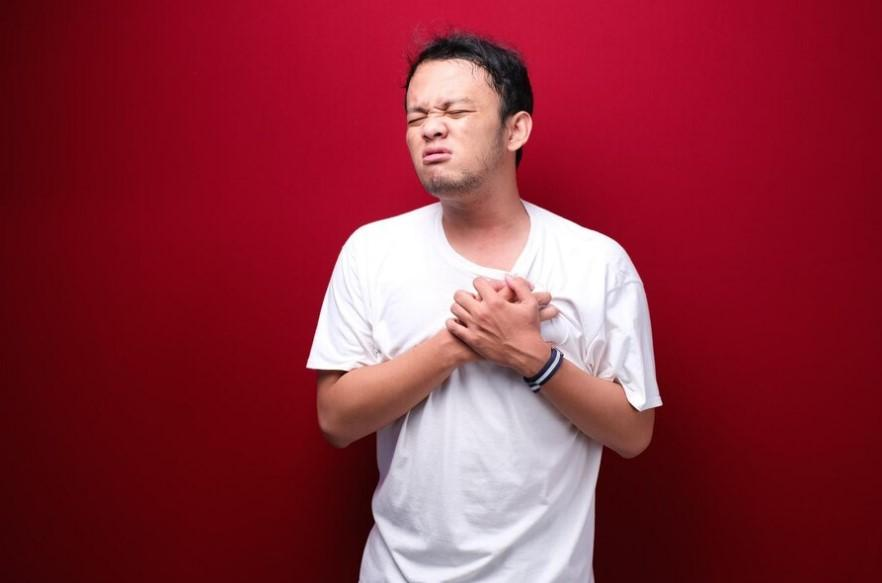pain: (403, 91, 482, 133)
